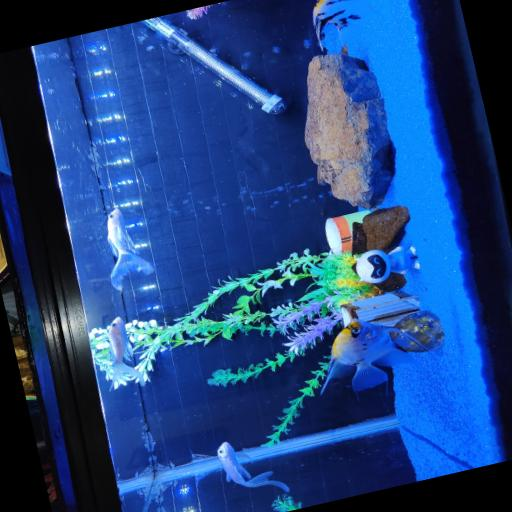Fish: (321, 318, 424, 392), (108, 208, 153, 289), (218, 441, 289, 491), (313, 0, 376, 49), (108, 316, 140, 388)
